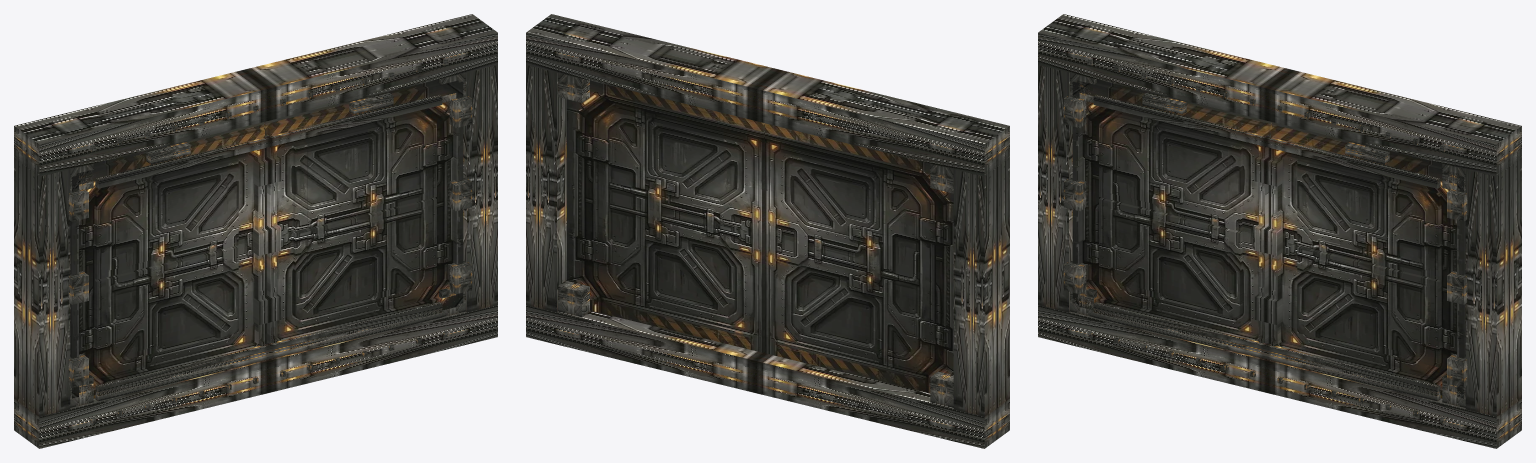
Rendered from hangar_kapi_ankora.glb.
3 views of the same model, side by side, from view 1: azimuth 30°, elevation 25°; view 2: azimuth 150°, elevation 25°; view 3: azimuth 330°, elevation 25° (orthographic).
Visible parts, largest first — view 1: FRAME, DOOR_R, DOOR_L; view 2: FRAME, DOOR_R, DOOR_L; view 3: FRAME, DOOR_L, DOOR_R.
Part boxes in pixels (bbox=[...]): FRAME: bbox=[14, 14, 497, 448]; DOOR_R: bbox=[264, 79, 463, 343]; DOOR_L: bbox=[70, 122, 270, 398]; FRAME: bbox=[526, 14, 1009, 448]; DOOR_R: bbox=[566, 80, 764, 352]; DOOR_L: bbox=[765, 123, 953, 393]; FRAME: bbox=[1038, 14, 1521, 448]; DOOR_L: bbox=[1072, 79, 1271, 343]; DOOR_R: bbox=[1265, 122, 1465, 398].
Size of the model in its own units: 10.4 by 6.6 by 1.14.
Materials: 1 (1 with a texture image).
